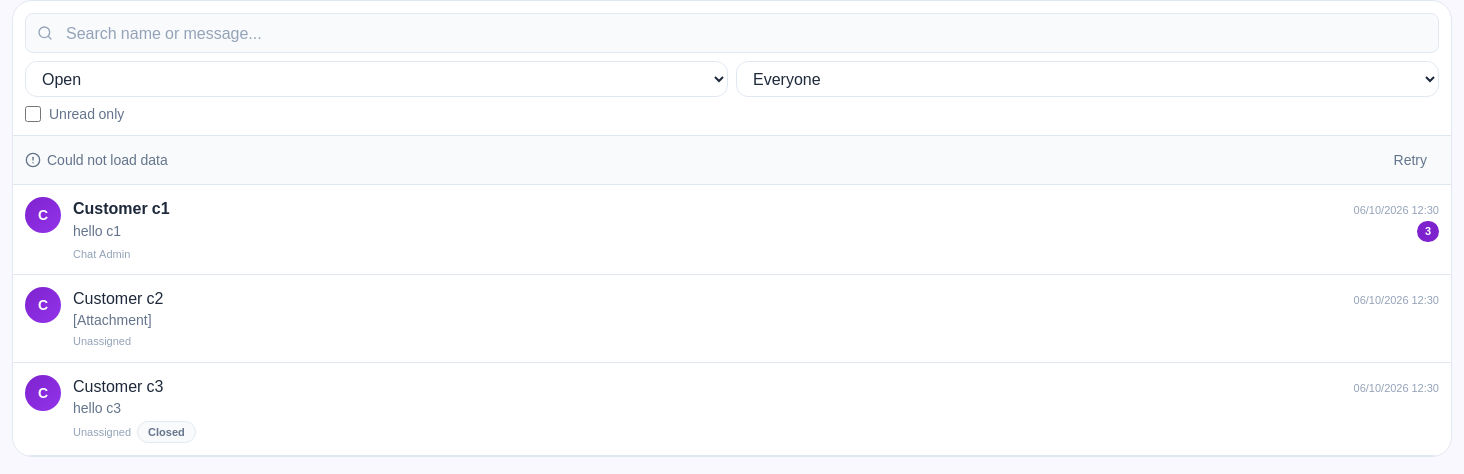
Test: ConversationList › refetch ລົ້ມຫຼັງມີຂໍ້ມູນ: ຍັງສະແດງແຖວ + banner (role=alert) ພ້ອມລອງໃໝ່
expect the text "Could not load data" is shown: met, box [25,151,168,169]
expect the button with test id "conversation-c1" is shown: met, box [13,185,1451,275]
Click the button "Retry": (1410, 160) [1382,144,1439,176]
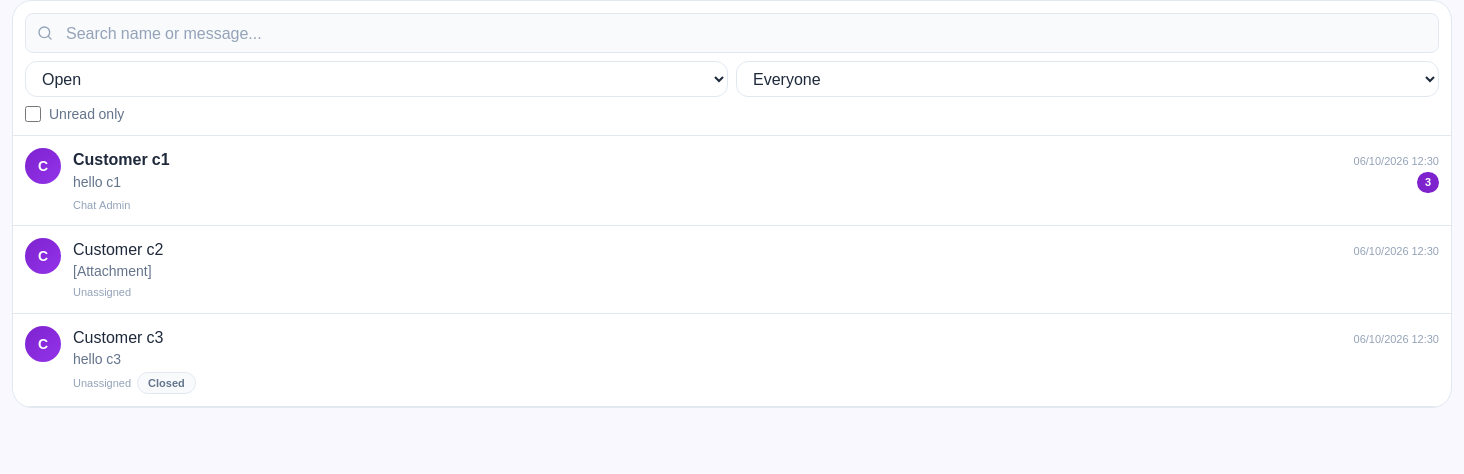
expect the button with test id "conversation-c1" is shown: met, box [13,136,1451,226]
expect the message "Could not load data Retry" is gone: met
